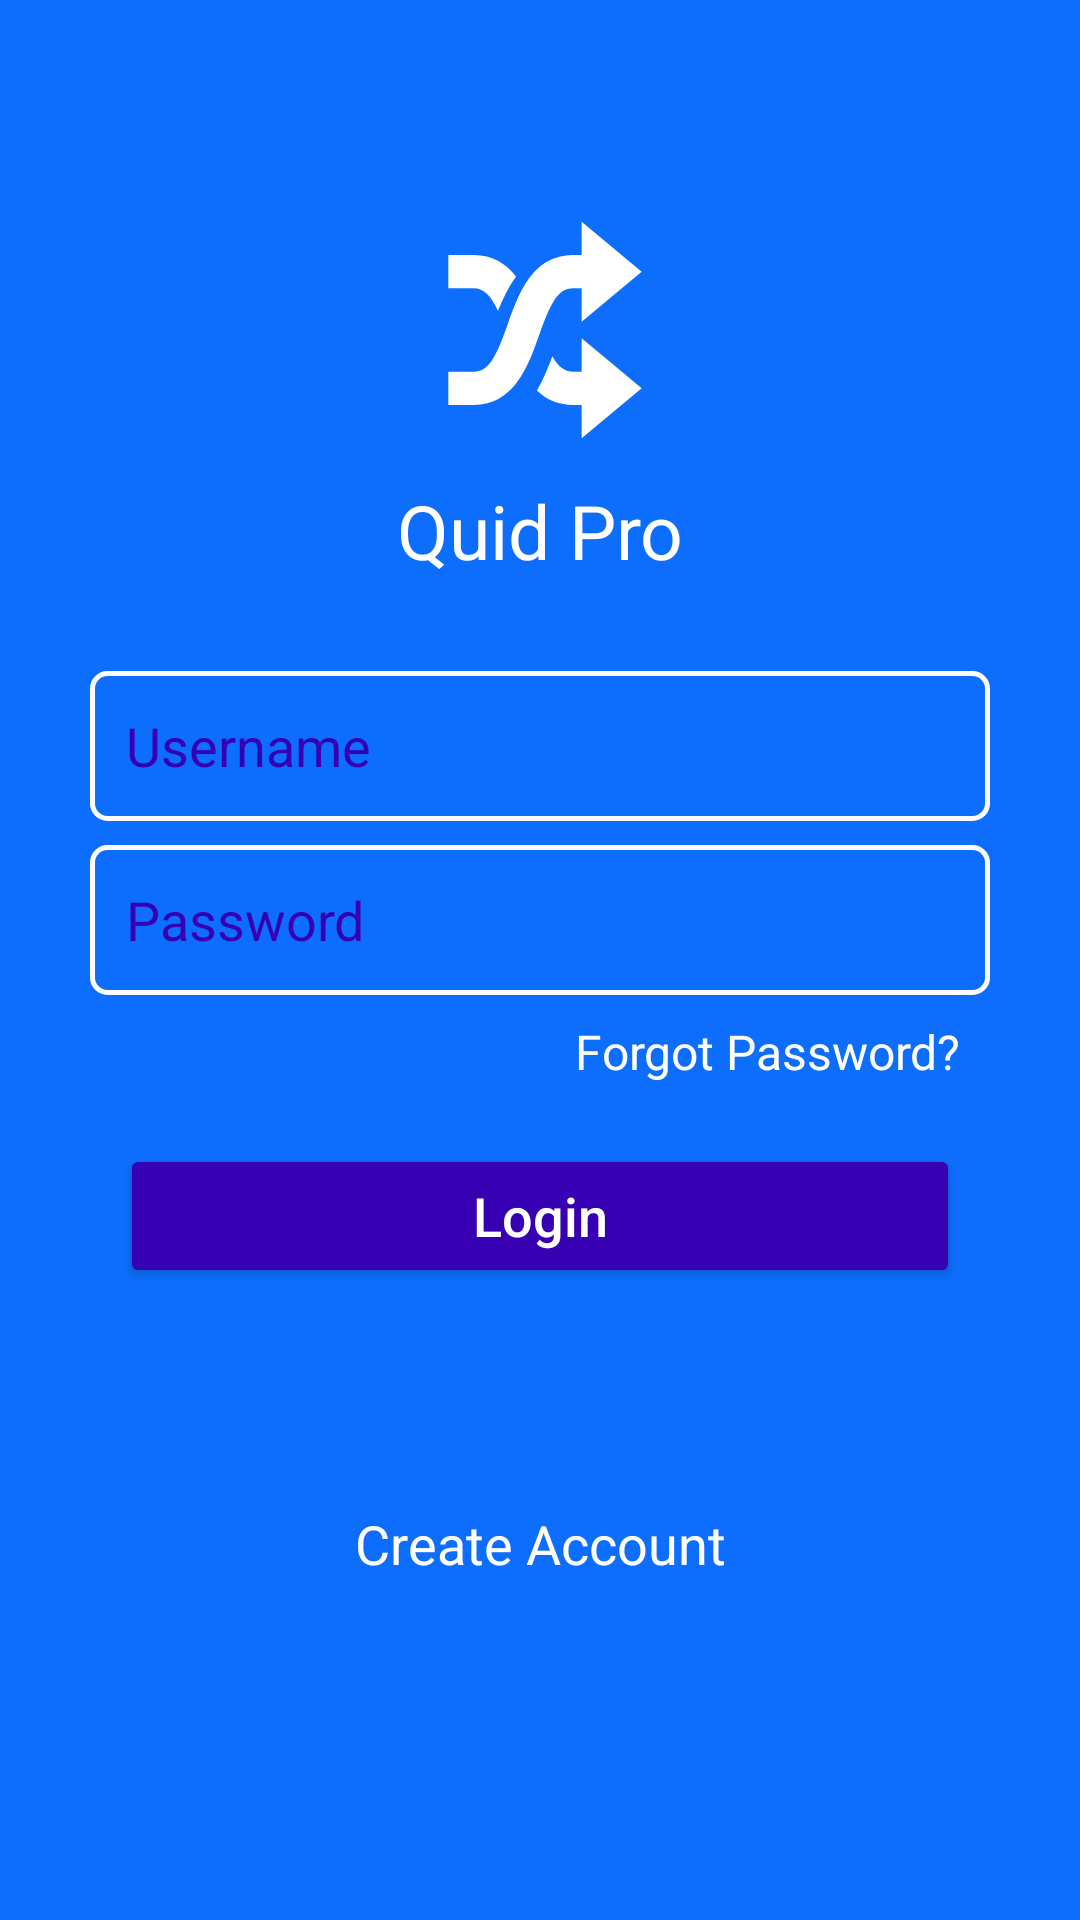

Screen size 1080×1920. Icon name, then its center in pixels as (x=x, y=y):
shuffle tracks main: (x=545, y=330)
